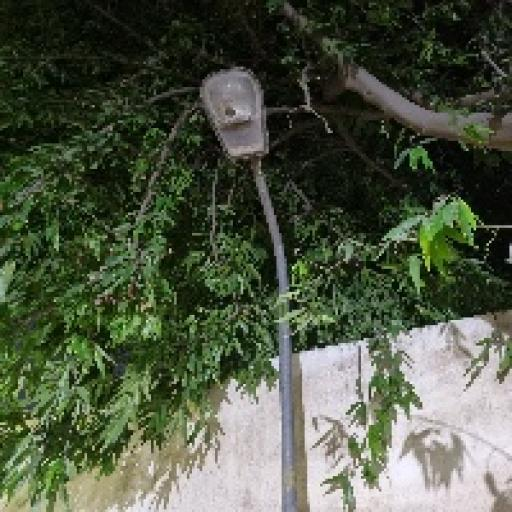Not Working: (184, 48, 290, 186)
